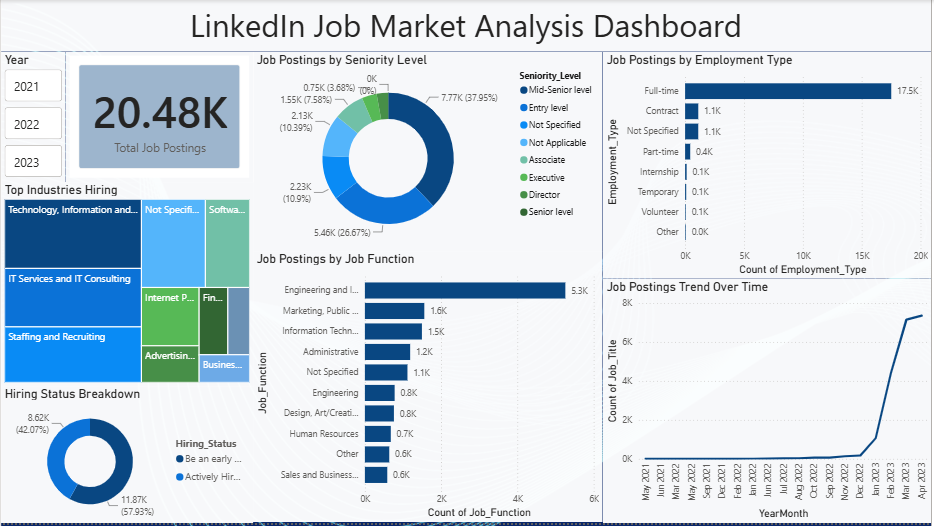

This screenshot's page, from the dashboard's own definition file:
{"tool":"powerbi","page":{"name":"Page 1","canvas":[1280,720],"ordinal":0},"visuals":[{"type":"cardVisual","fields":{"Data":["CountNonNull(Sheet1.Job_Title)"]},"box":[89.3,72,257.8,178.6],"z":0},{"type":"donutChart","title":"Job Postings by Seniority Level","fields":{"Category":["Sheet1.Seniority_Level"],"Y":["CountNonNull(Sheet1.Seniority_Level)"]},"box":[347,72,481,273.6],"z":1000},{"type":"clusteredBarChart","title":"Job Postings by Employment Type","fields":{"Category":["Sheet1.Employment_Type"],"Y":["CountNonNull(Sheet1.Employment_Type)"]},"box":[828,72,452.2,312.5],"z":2000},{"type":"treemap","title":"Top Industries Hiring","fields":{"Group":["Sheet1.Industry"],"Values":["CountNonNull(Sheet1.Industry)"]},"box":[0,250.6,347,280.8],"z":3000},{"type":"lineChart","title":"Job Postings Trend Over Time","fields":{"Y":["CountNonNull(Sheet1.Job_Title)"],"Category":["DateTable.YearMonth"]},"box":[828,384.5,452.2,335.5],"z":4000},{"type":"donutChart","title":"Hiring Status Breakdown","fields":{"Category":["Sheet1.Hiring_Status"],"Y":["CountNonNull(Sheet1.Hiring_Status)"]},"box":[0,531.4,347,188.6],"z":4001},{"type":"clusteredBarChart","title":"Job Postings by Job Function","fields":{"Category":["Sheet1.Job_Function"],"Y":["CountNonNull(Sheet1.Job_Function)"]},"box":[347,345.6,481,373],"z":4002},{"type":"textbox","box":[0,0,1280,71.4],"z":4003},{"type":"advancedSlicerVisual","fields":{"Values":["DateTable.Year"]},"box":[0,72,89.3,178.6],"z":4004}]}

Visuals, with their boxes in screenshot pixels (x1, y1, x2, y2), scaled from the page's 1280x720 canvas onto the 934x526 screenshot:
cardVisual - CountNonNull(Sheet1.Job_Title): BBox(65, 53, 253, 183)
"Job Postings by Seniority Level" donutChart: BBox(253, 53, 604, 252)
"Job Postings by Employment Type" clusteredBarChart: BBox(604, 53, 933, 281)
"Top Industries Hiring" treemap: BBox(0, 183, 253, 388)
"Job Postings Trend Over Time" lineChart: BBox(604, 281, 933, 525)
"Hiring Status Breakdown" donutChart: BBox(0, 388, 253, 525)
"Job Postings by Job Function" clusteredBarChart: BBox(253, 252, 604, 525)
textbox: BBox(0, 0, 933, 52)
advancedSlicerVisual - DateTable.Year: BBox(0, 53, 65, 183)
